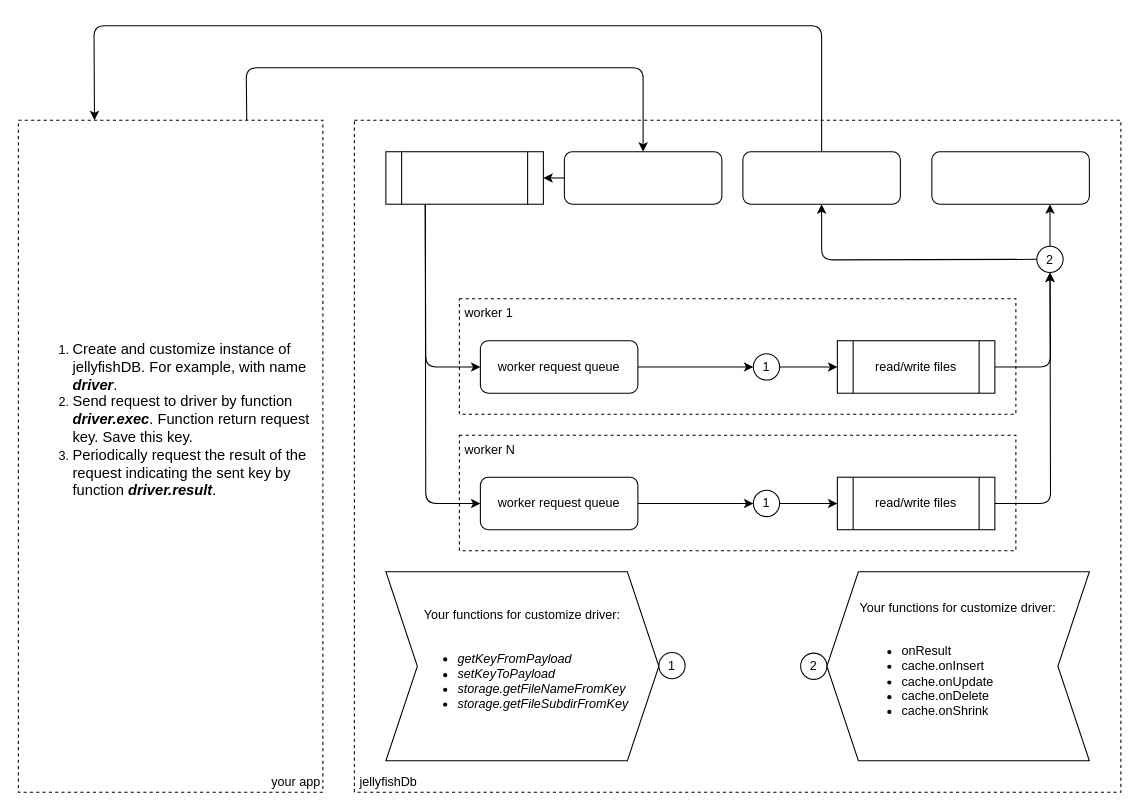
Image size: 1139x811. Some labels were removed from this diagram. The centre of each missing label's shape, as x and y in pixels:
"balancer" goes at [464,177].
"cache" goes at [1010,177].
"general request queue" goes at [642,177].
"general response queue" goes at [821,177].
